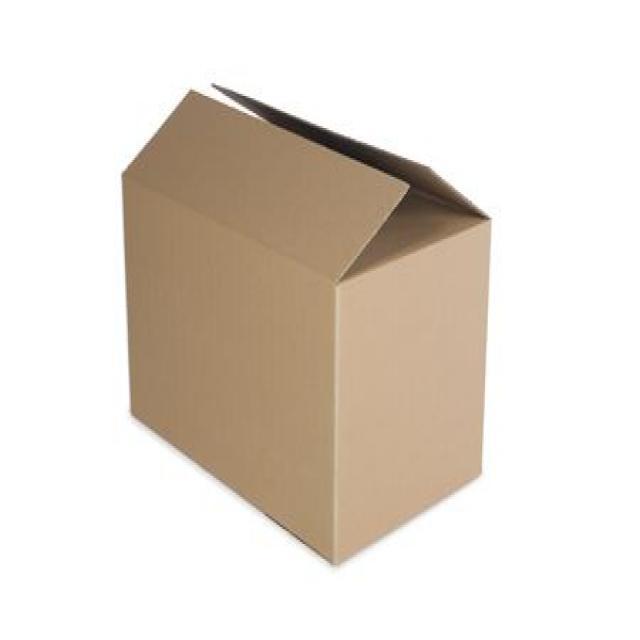box: (123, 84, 488, 566)
